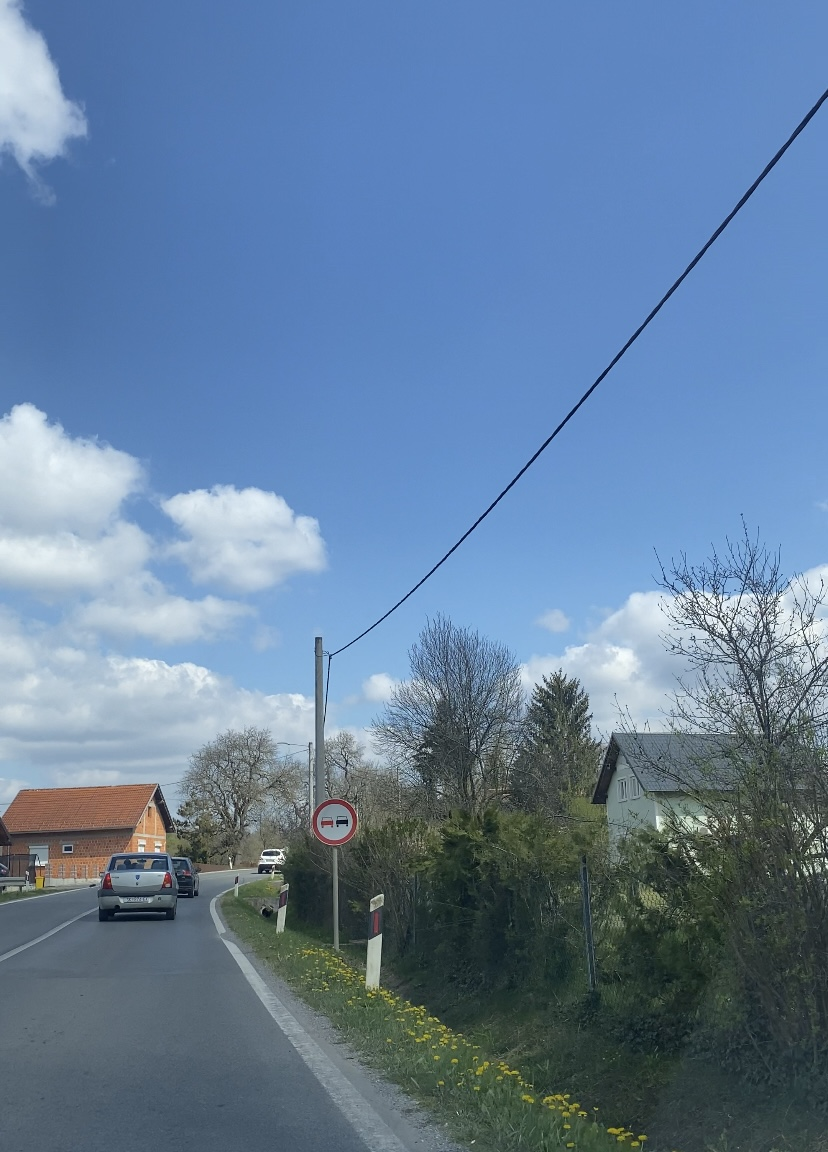Zabrana pretjecanja: (311, 798, 358, 845)
